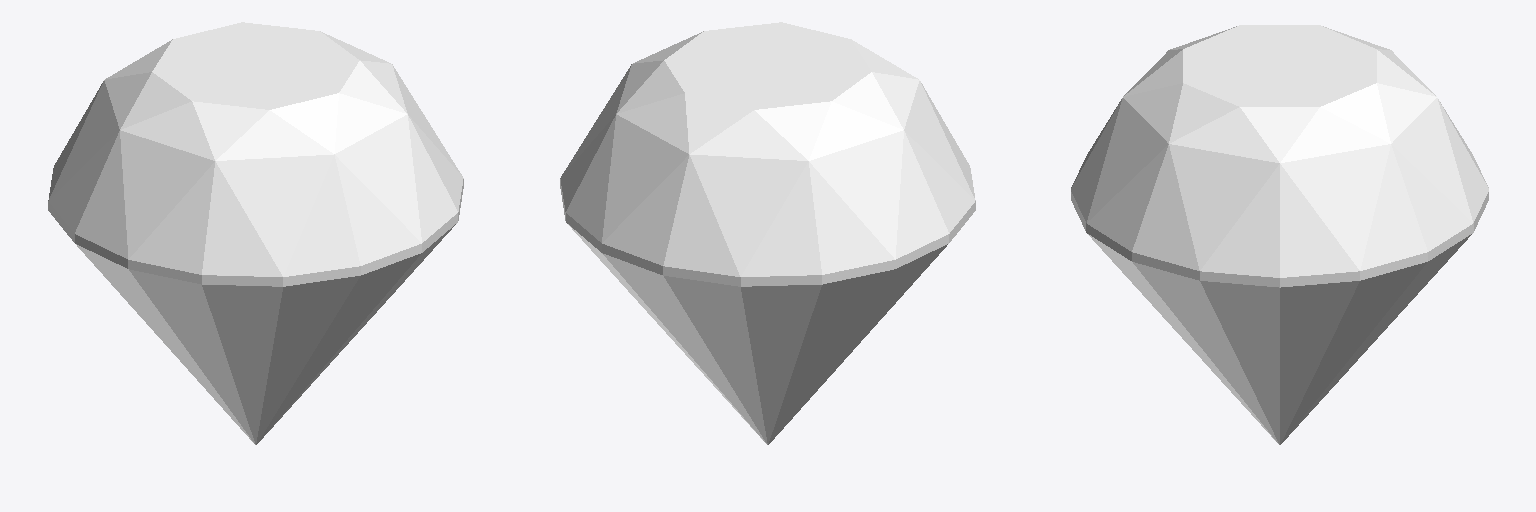
File: Gemstone.obj
3 views of the same model, side by side, from view 1: azimuth 30°, elevation 25°; view 2: azimuth 150°, elevation 25°; view 3: azimuth 270°, elevation 25° (orthographic).
Visible parts, largest first — view 1: Gemstone.obj; view 2: Gemstone.obj; view 3: Gemstone.obj.
Boxes of the visible parts, x1,y1,x2,y2 form: Gemstone.obj: [48, 22, 463, 444]; Gemstone.obj: [560, 22, 975, 444]; Gemstone.obj: [1071, 25, 1488, 444].
Bounding box in the file's own units: 1 × 1 × 1.